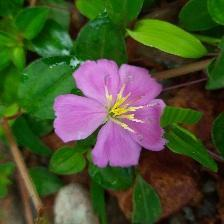malabar melastome: (53, 58, 173, 169)
